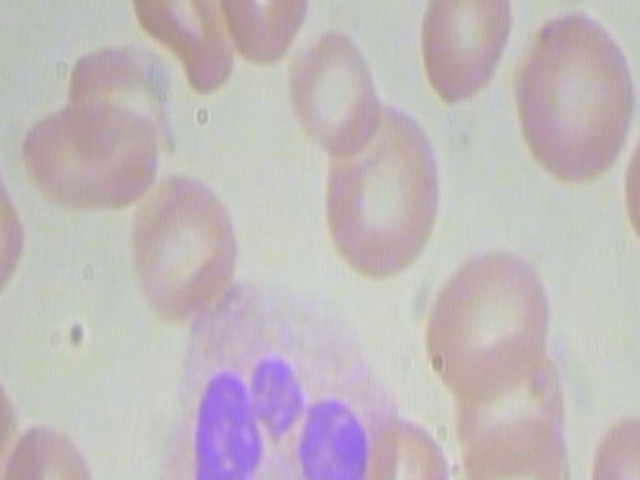RBC: (504, 5, 640, 194), (418, 231, 557, 405), (322, 95, 437, 287), (125, 164, 243, 326), (14, 94, 159, 218), (287, 14, 378, 165), (411, 0, 521, 115), (125, 0, 235, 101), (216, 0, 312, 76), (0, 421, 104, 480), (588, 394, 640, 480)
WBC: (151, 278, 409, 480)
